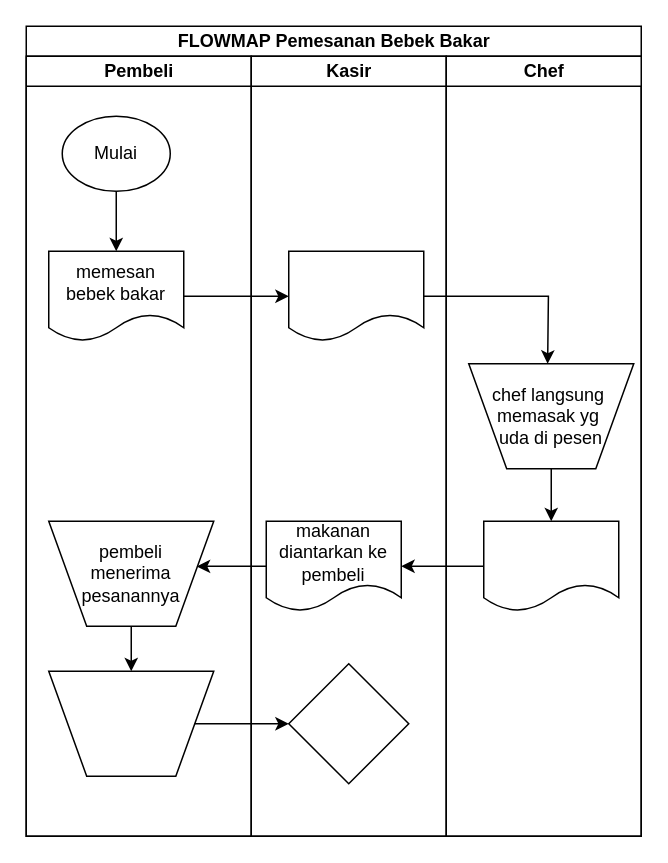
Image size: 668x863. Some labels were removed from this diagram. The centre of each missing label's shape, as x and y in pixels:
"bebek bakar siap saji" goes at point (550, 565).
"dan membayar nya" goes at point (130, 723).
"memberikan pesanan" goes at point (355, 295).
"selesai" goes at point (348, 723).
